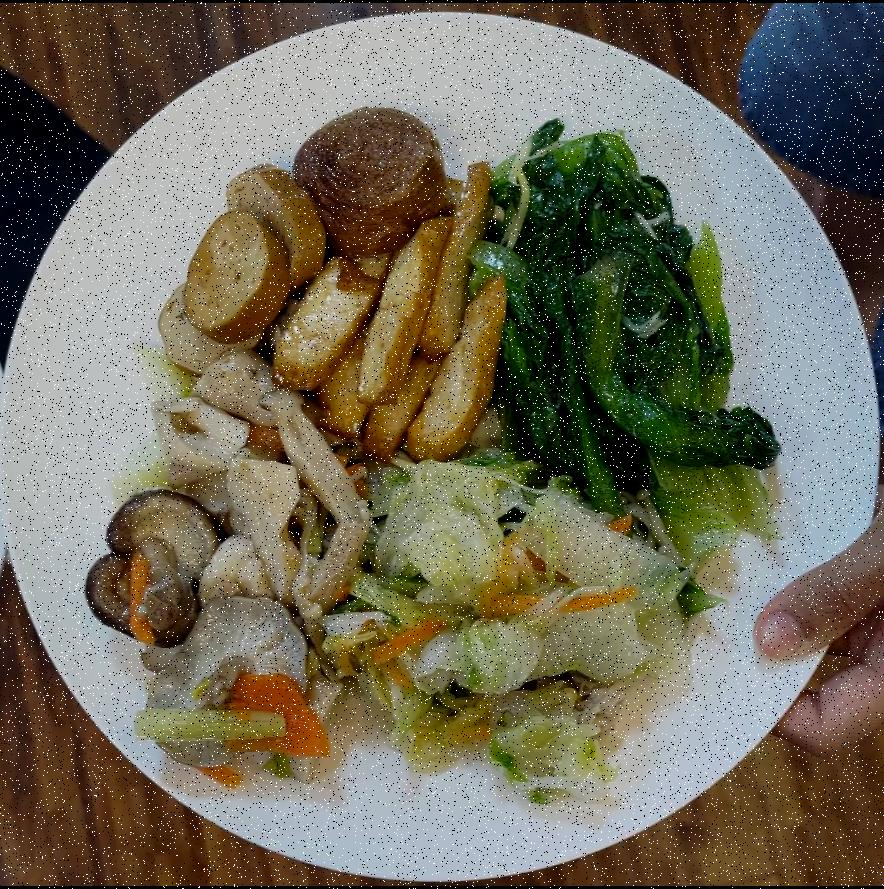big fried chicken leg: (5, 2, 884, 886)
braised fish fillet: (482, 122, 779, 550), (84, 349, 359, 788), (166, 105, 502, 449), (356, 464, 680, 798)
